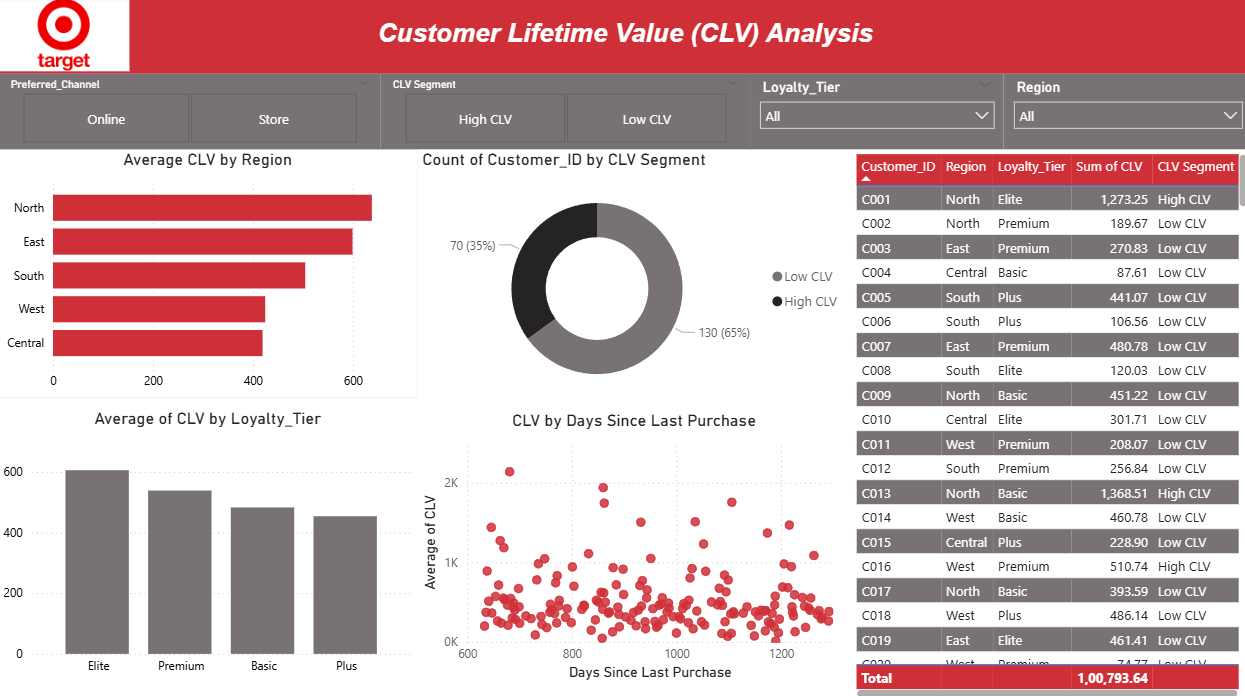

Layout of this report page (visuals, bound fields, positions):
{"tool":"powerbi","page":{"name":"CLV","canvas":[1280,720],"ordinal":4},"visuals":[{"type":"clusteredBarChart","title":"Average CLV by Region","fields":{"Category":["Customer_Demographics.Region"],"Y":["Avg(Customer_Demographics.CLV)"]},"box":[0,156.2,427.9,254.7],"z":0},{"type":"clusteredColumnChart","fields":{"Category":["Loyalty_Program.Loyalty_Tier"],"Y":["Avg(Customer_Demographics.CLV)"]},"box":[0,420.8,427.9,280.1],"z":1000},{"type":"donutChart","fields":{"Category":["Customer_Demographics.CLV Segment"],"Y":["CountNonNull(Churn_Labelled_Customers.Customer_ID)"]},"box":[427.9,156.2,441.9,264.6],"z":2000},{"type":"scatterChart","title":"CLV by Days Since Last Purchase","fields":{"Y":["Avg(Customer_Demographics.CLV)"],"X":["Churn_Labelled_Customers.Days Since Last Purchase"]},"box":[427.9,422.2,441.9,280.1],"z":3000},{"type":"tableEx","fields":{"Values":["Churn_Labelled_Customers.Customer_ID","Customer_Demographics.Region","Loyalty_Program.Loyalty_Tier","Sum(Customer_Demographics.CLV)","Customer_Demographics.CLV Segment"]},"box":[869.8,156.2,409.6,564.4],"z":4000},{"type":"slicer","fields":{"Values":["Customer_Demographics.Region"]},"box":[1026,78.8,253.3,77.4],"z":5000},{"type":"slicer","fields":{"Values":["Loyalty_Program.Loyalty_Tier"]},"box":[767,78.8,259,77.4],"z":6000},{"type":"slicer","fields":{"Values":["Customer_Demographics.CLV Segment"]},"box":[389.9,78.8,377.2,77.4],"z":7000},{"type":"slicer","fields":{"Values":["Customer_Demographics.Preferred_Channel"]},"box":[0,78.8,389.9,77.4],"z":8000},{"type":"textbox","box":[0,0,1279.3,78.8],"z":9000},{"type":"image","box":[0,0,133.7,78.8],"z":10000}]}

Visuals, with their boxes in screenshot pixels (x1, y1, x2, y2), scaled from the page's 1280x720 canvas onto the 1245x696 screenshot:
"Average CLV by Region" clusteredBarChart: {"x1": 0, "y1": 151, "x2": 416, "y2": 397}
clusteredColumnChart - Loyalty_Program.Loyalty_Tier x Avg(Customer_Demographics.CLV): {"x1": 0, "y1": 407, "x2": 416, "y2": 678}
donutChart - Customer_Demographics.CLV Segment x CountNonNull(Churn_Labelled_Customers.Customer_ID): {"x1": 416, "y1": 151, "x2": 846, "y2": 407}
"CLV by Days Since Last Purchase" scatterChart: {"x1": 416, "y1": 408, "x2": 846, "y2": 679}
tableEx - Churn_Labelled_Customers.Customer_ID x Customer_Demographics.Region: {"x1": 846, "y1": 151, "x2": 1244, "y2": 695}
slicer - Customer_Demographics.Region: {"x1": 998, "y1": 76, "x2": 1244, "y2": 151}
slicer - Loyalty_Program.Loyalty_Tier: {"x1": 746, "y1": 76, "x2": 998, "y2": 151}
slicer - Customer_Demographics.CLV Segment: {"x1": 379, "y1": 76, "x2": 746, "y2": 151}
slicer - Customer_Demographics.Preferred_Channel: {"x1": 0, "y1": 76, "x2": 379, "y2": 151}
textbox: {"x1": 0, "y1": 0, "x2": 1244, "y2": 76}
image: {"x1": 0, "y1": 0, "x2": 130, "y2": 76}
